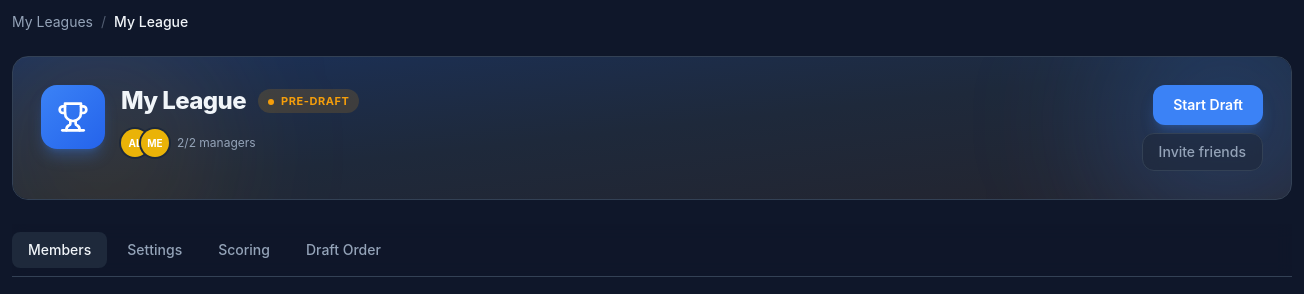
Test: LeagueDetailView — state-gated tabs › shows parent Edit button on Scoring tab for owner in pre-draft
Click the button with test id "league-tab" showing "Scoring" at [244, 250], box [202, 232, 286, 268]
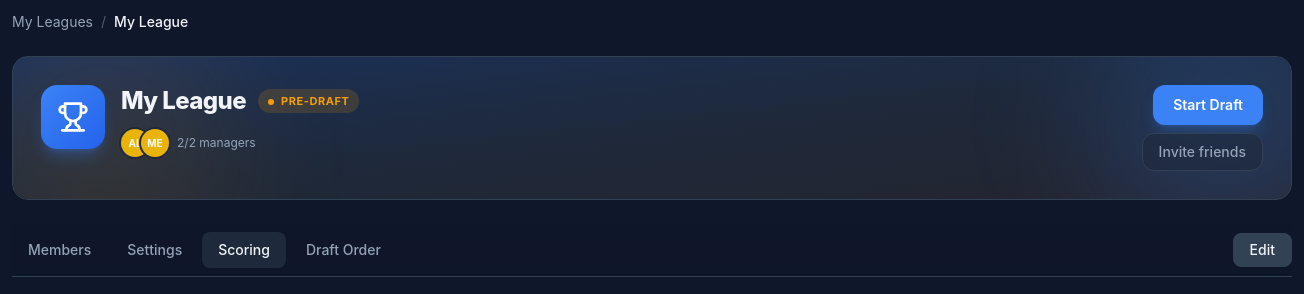
Expected: the button "Edit" is shown, [1233, 233, 1292, 267]
